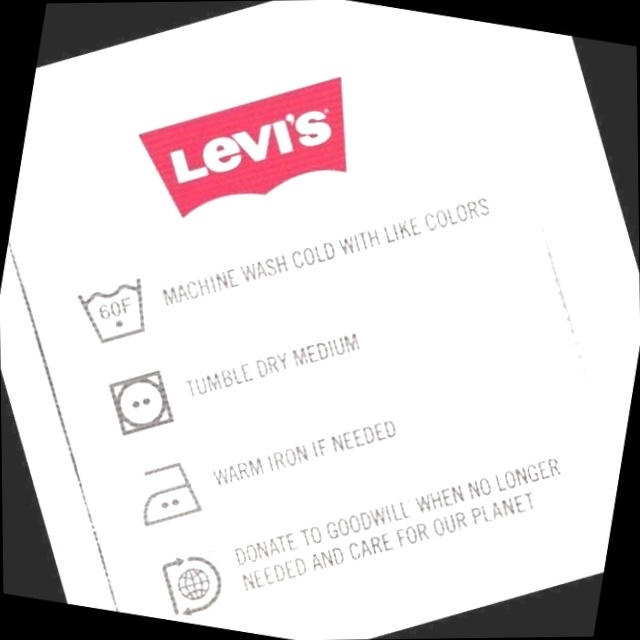30C: (72, 263, 158, 353)
iron_medium: (127, 449, 215, 537)
tumble_dry_medium: (101, 359, 187, 445)
